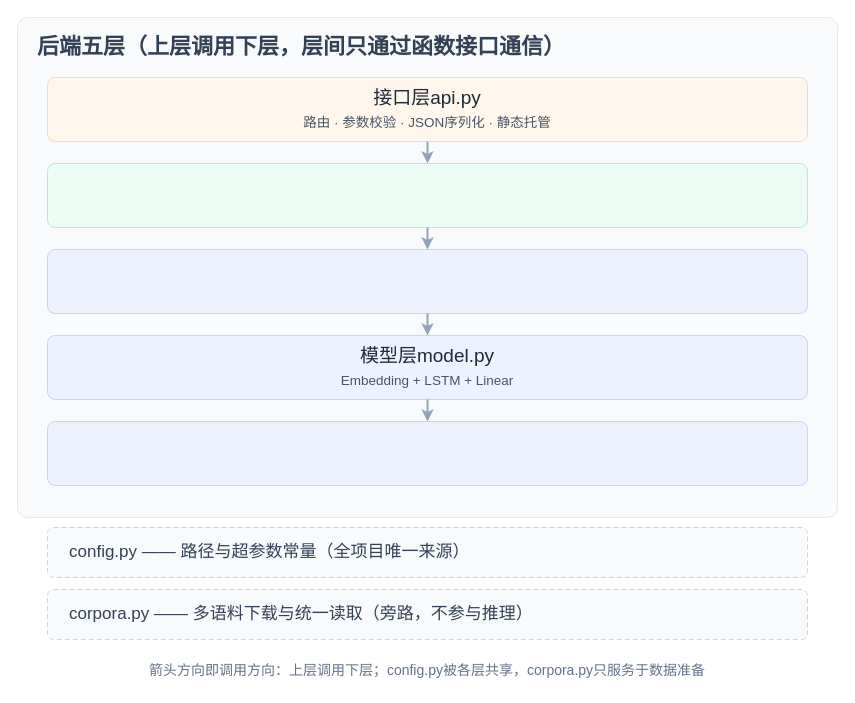
Some shapes in this 855 by 703 pixel diagram are drawn without their labels. Each missing label, with the centre of its shape:
"推理层infer.py 载入产物 · 单条 / 批量预测 · 遮挡法贡献" goes at (427,195).
"数据层data.py 下载 · 校验 · 分词 · 词表 · 编码" goes at (427,453).
"训练层train.py 训练循环 · 验证选优 · 网格实验 · 曲线绘制" goes at (427,281).
